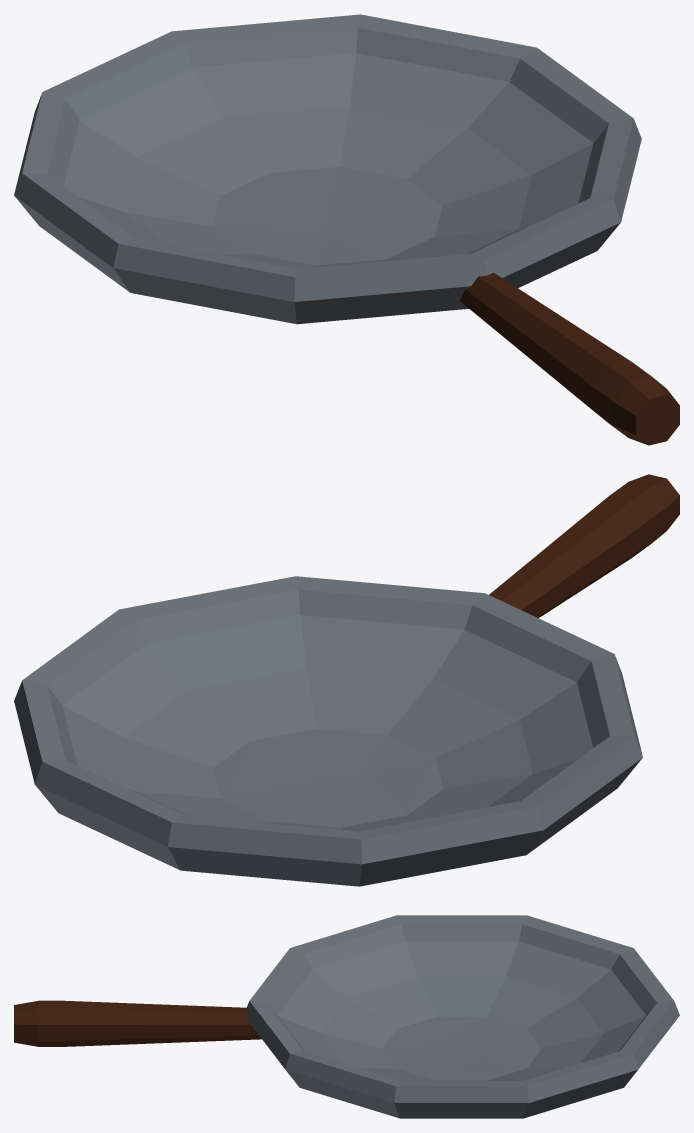
The model's file is FryingPan.obj.
The picture shows the model from 3 angles, top to bottom: view 1: azimuth 30°, elevation 25°; view 2: azimuth 150°, elevation 25°; view 3: azimuth 270°, elevation 25°; orthographic projection. The views are drawn at different scales.
Parts seen in each view (by area): view 1: FryingPan_Grey, FryingPan_DarkBrown; view 2: FryingPan_Grey, FryingPan_DarkBrown; view 3: FryingPan_Grey, FryingPan_DarkBrown.
Boxes of the visible parts, x1,y1,x2,y2 form: FryingPan_Grey: [14, 14, 641, 324]; FryingPan_DarkBrown: [459, 272, 679, 445]; FryingPan_Grey: [14, 576, 642, 886]; FryingPan_DarkBrown: [489, 474, 679, 618]; FryingPan_Grey: [246, 915, 679, 1118]; FryingPan_DarkBrown: [14, 1000, 261, 1046].
Bounding box in the file's own units: 1.74 × 0.253 × 2.79.
